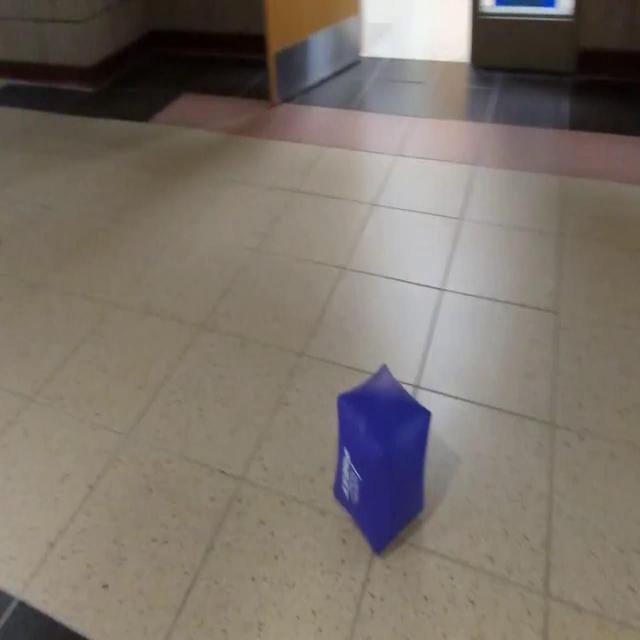frc_cube: (328, 358, 430, 558)
